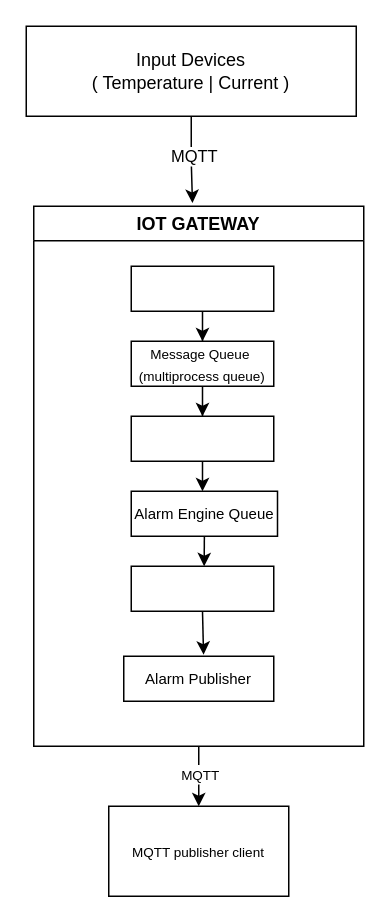
Image size: 390x923. Some labels were removed from this diagram. The shapes that lost their labels are listed below. From the top down, each one's centre as x and y in pixels, then its label:
At pixel 202 288: "MQTT Listener thread".
At pixel 202 438: "worker processes (parallel)".
At pixel 202 588: "Sqlite state store".
